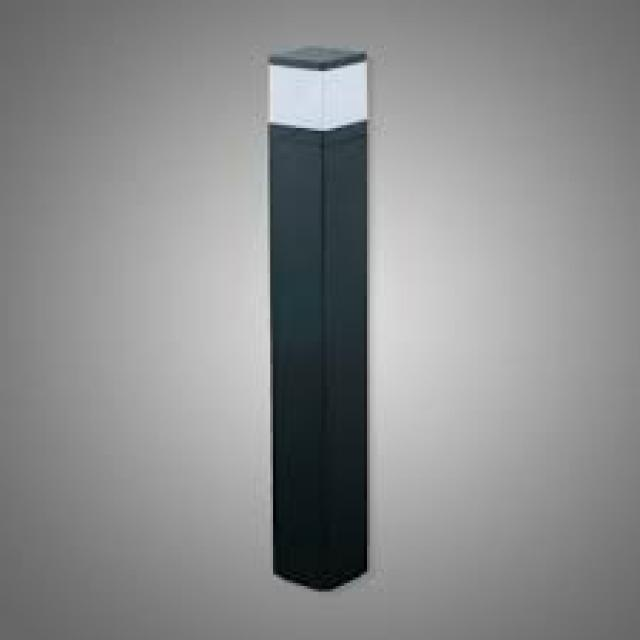bollard: (248, 29, 405, 604)
